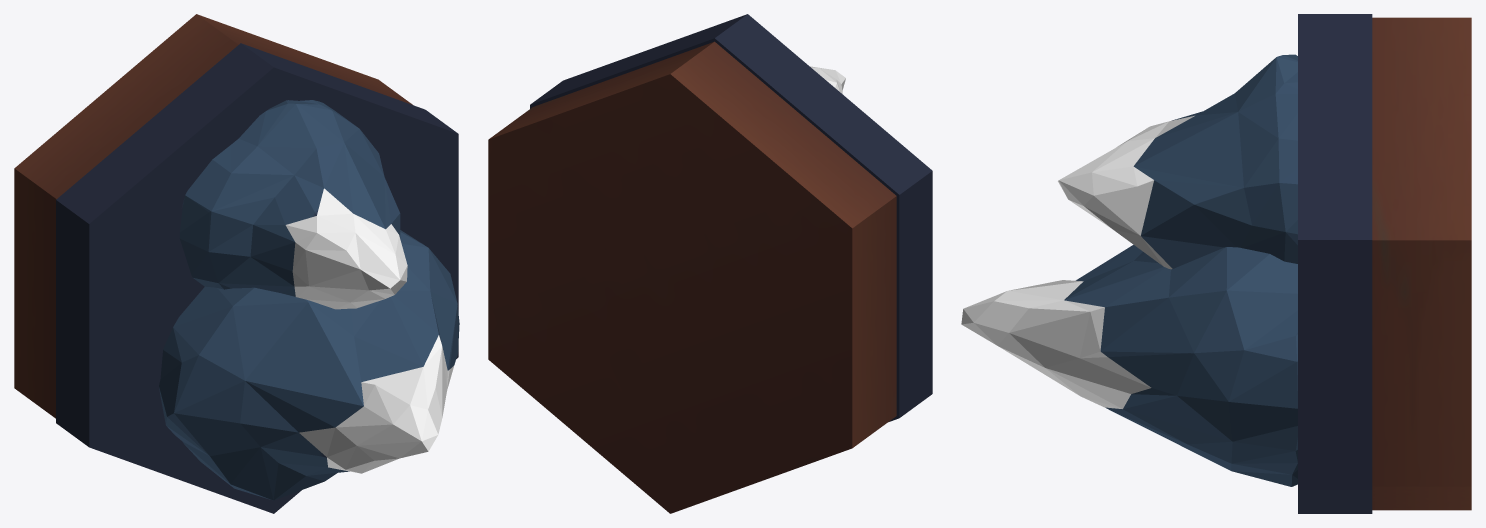
Rendered from Mountain2.fbx.
3 renders of one model, left to right at view 1: azimuth 30°, elevation 25°; view 2: azimuth 150°, elevation 25°; view 3: azimuth 270°, elevation 25°, orthographic. The views are drawn at different scales.
Parts seen in each view (by area): view 1: Mountain2; view 2: Mountain2; view 3: Mountain2.
Boxes of the visible parts, left/top/right/bottom form: Mountain2: left=14, top=14, right=459, bottom=513; Mountain2: left=488, top=14, right=932, bottom=513; Mountain2: left=961, top=14, right=1471, bottom=513.
Size of the model in its own units: 172 by 199 by 184.
